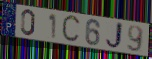0: (20, 9, 36, 37)
1: (48, 13, 57, 40)
6: (84, 18, 101, 47)
9: (126, 24, 146, 52)
C: (61, 14, 82, 45)
J: (104, 21, 124, 51)
